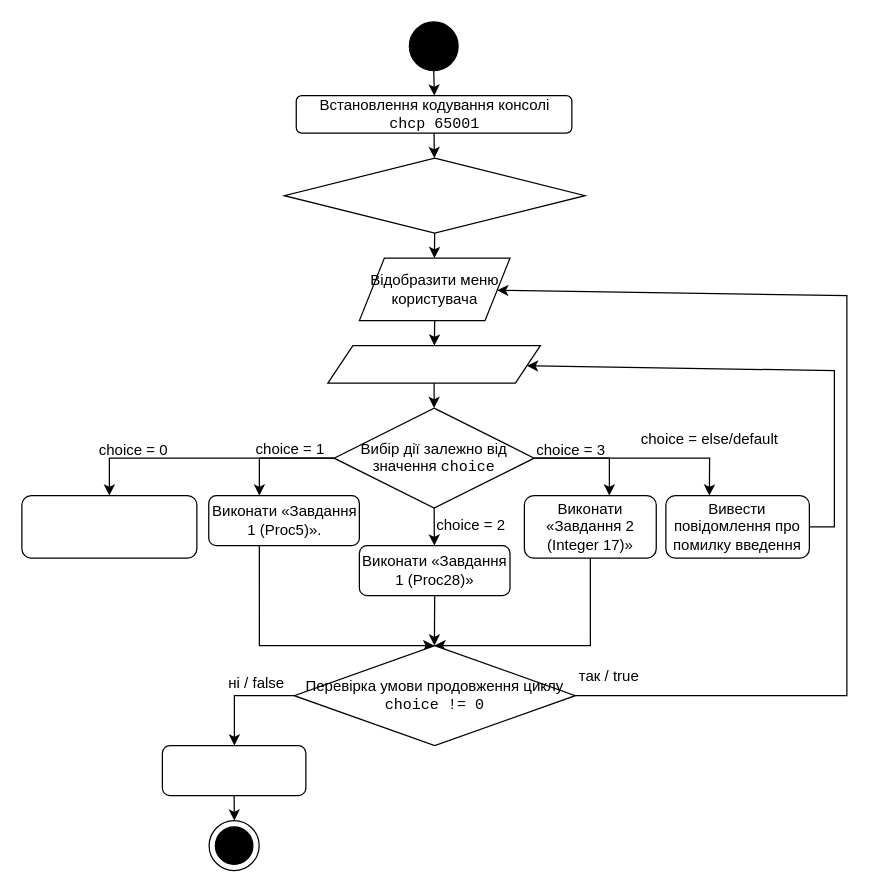
The diagram is 879 pixels wide and 893 high, and some of its shapes have lost their labels. Here are the shapes that lost their labels. From the top down, the box of each, then its label:
(283, 157, 585, 233): Початок ітерації do-while
(327, 344, 540, 383): Зчитати значення choice
(21, 494, 197, 558): Вивести повідомлення «Завершення роботи програми».
(161, 744, 306, 796): Повернення значення return 0
